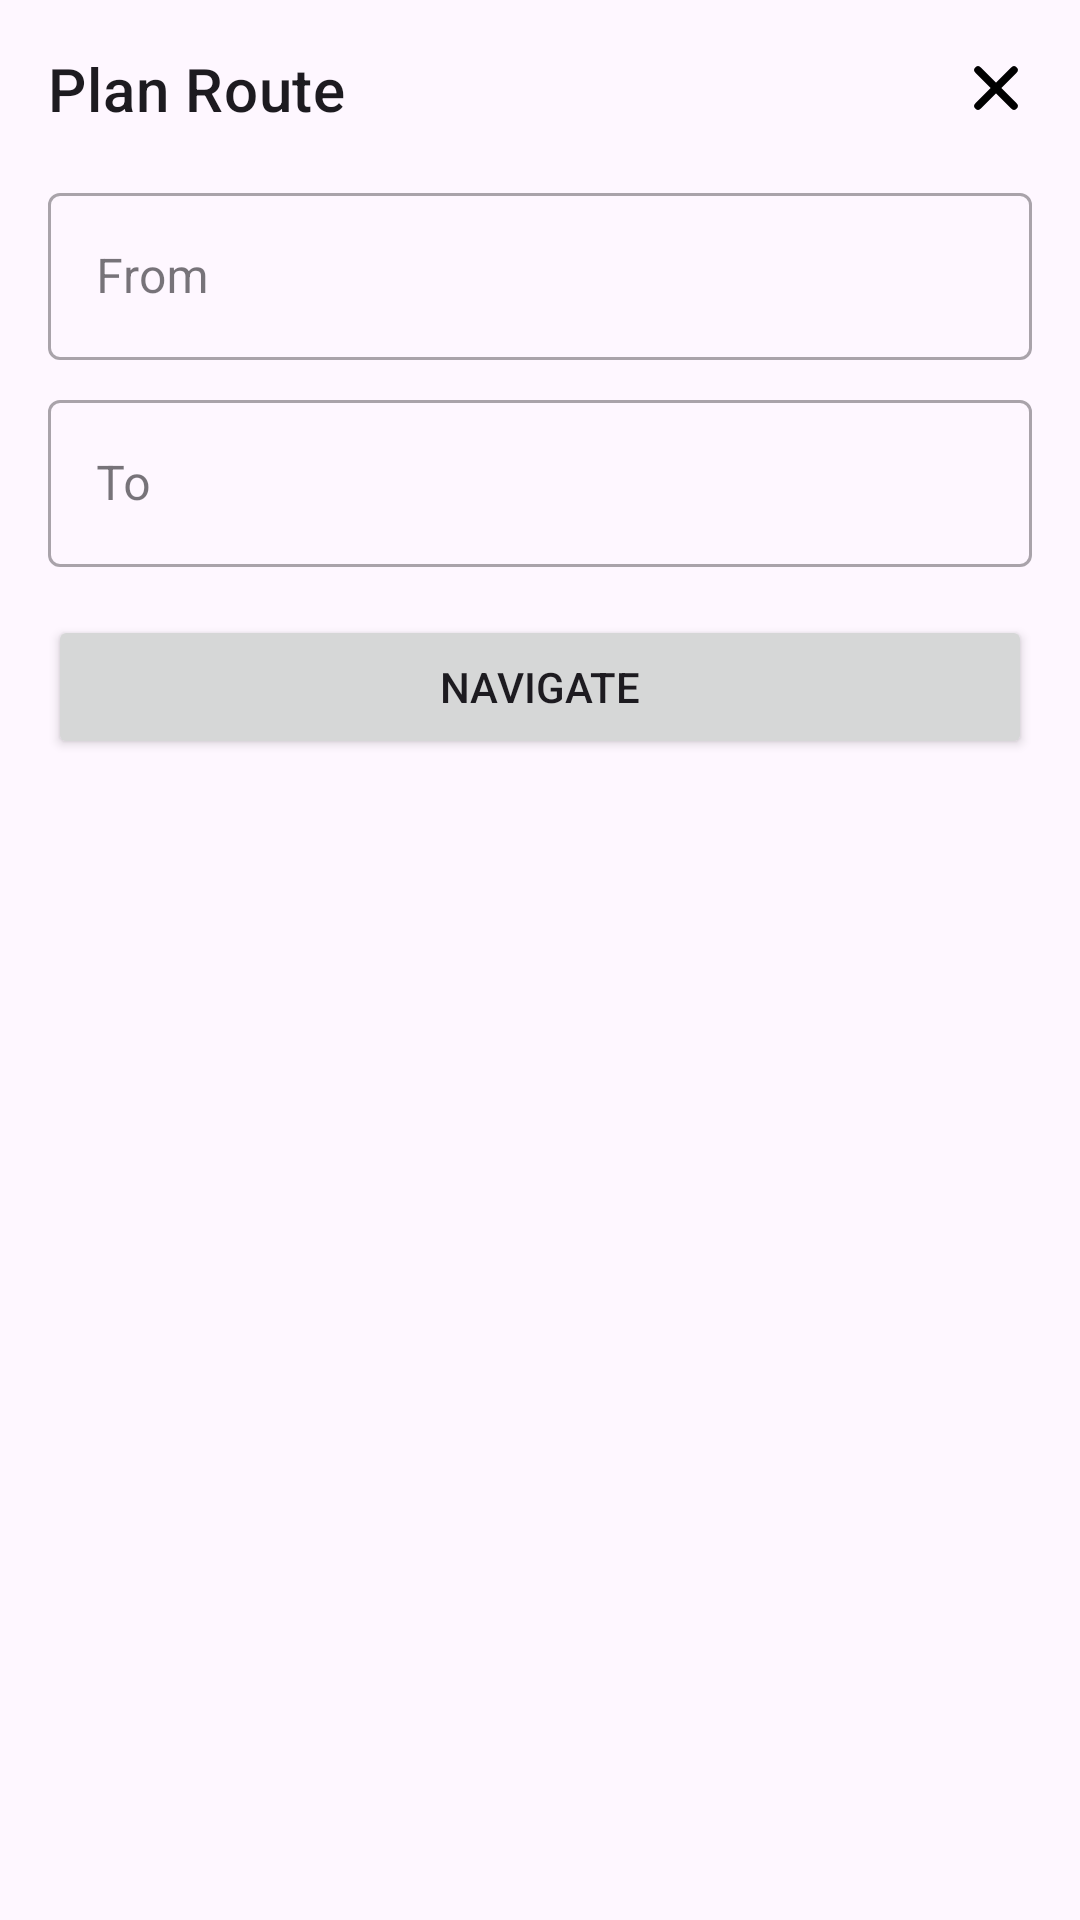

Named icons in this screenshot (1080px x 1920px) and their centers, (x=x, y=y):
Close: (x=996, y=88)
